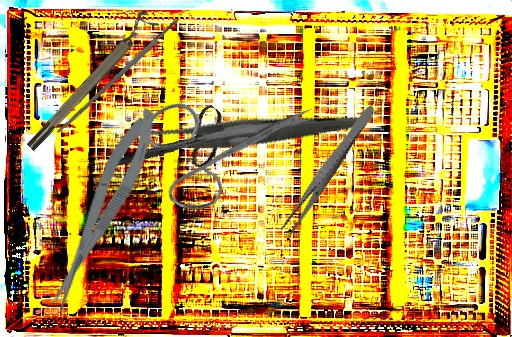Dressing Forceps: (134, 69, 367, 202), (277, 101, 378, 239)
Fixation Ring: (18, 8, 161, 154)
Iris Scissors: (119, 37, 320, 242), (104, 76, 238, 216)
Micro Scissor: (34, 102, 169, 318)
Scalpel Handle: (55, 18, 181, 135)
